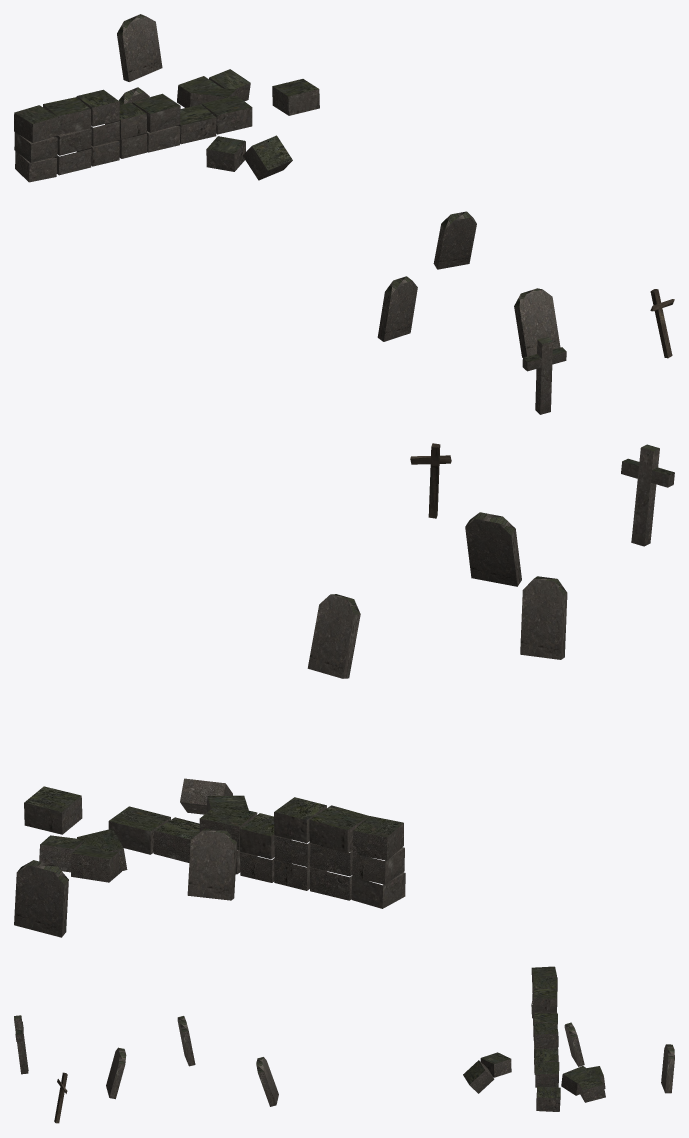
The model's file is dress_graveyard_tex.glb.
The picture shows the model from 3 angles, top to bottom: view 1: azimuth 30°, elevation 25°; view 2: azimuth 150°, elevation 25°; view 3: azimuth 270°, elevation 25°; orthographic projection. The views are drawn at different scales.
Parts seen in each view (by area): view 1: graveyard_bits; view 2: graveyard_bits; view 3: graveyard_bits.
Boxes of the visible parts, bbox=[...] form: graveyard_bits: bbox=[14, 14, 674, 414]; graveyard_bits: bbox=[14, 443, 674, 937]; graveyard_bits: bbox=[14, 966, 674, 1123].
Bounding box in the file's own units: 5.12 × 1.2 × 12.68.
Materials: 1 (1 with a texture image).
